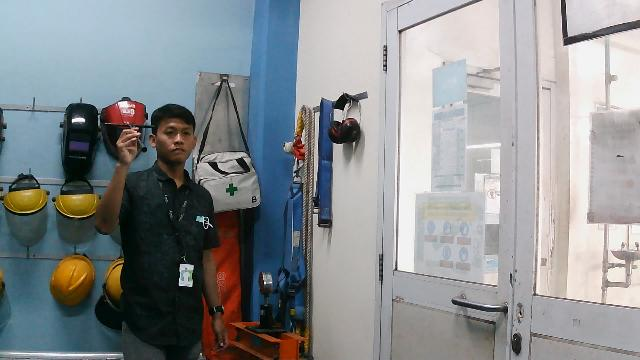kunci_t: (103, 120, 159, 156)
